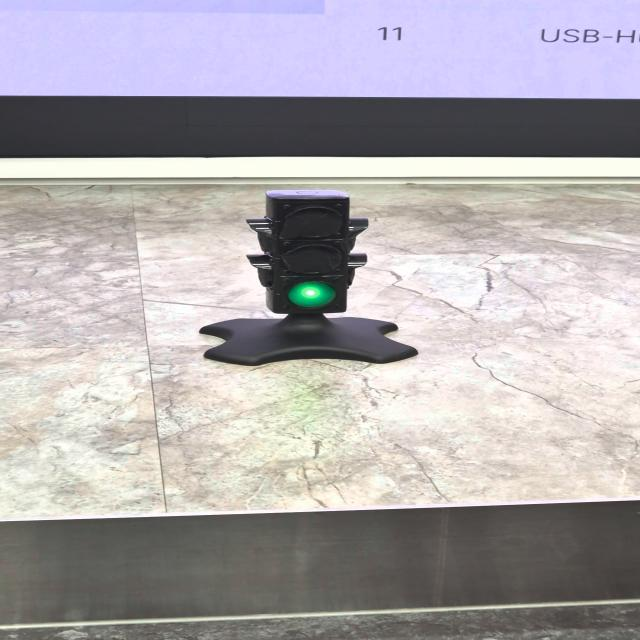green_light: (288, 282, 335, 307)
